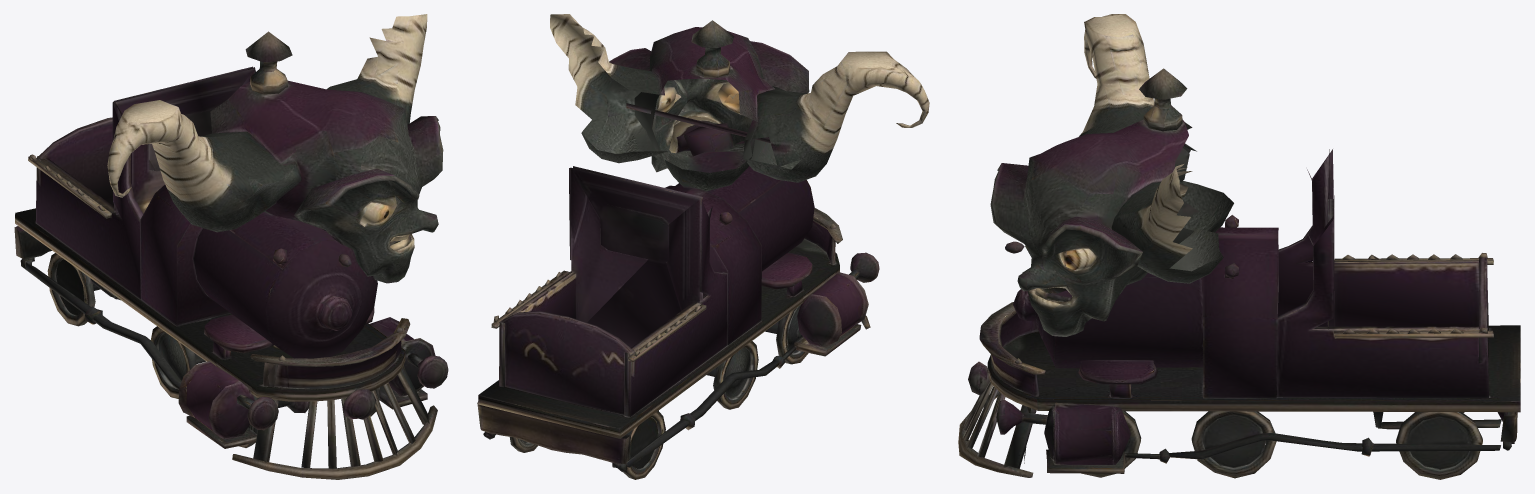
File: demon-ghost-cart-v2.glb
The picture shows the model from 3 angles, left to right: view 1: azimuth 30°, elevation 25°; view 2: azimuth 150°, elevation 25°; view 3: azimuth 270°, elevation 25°; orthographic projection. The views are drawn at different scales.
Parts seen in each view (by area): view 1: demon-ghost-cart-v2; view 2: demon-ghost-cart-v2; view 3: demon-ghost-cart-v2.
Boxes of the visible parts, left/top/right/bottom form: demon-ghost-cart-v2: left=14, top=14, right=448, bottom=479; demon-ghost-cart-v2: left=477, top=14, right=929, bottom=479; demon-ghost-cart-v2: left=958, top=14, right=1520, bottom=479.
Size of the model in its own units: 0.754 by 0.7482 by 1.
Materials: 1 (1 with a texture image).
